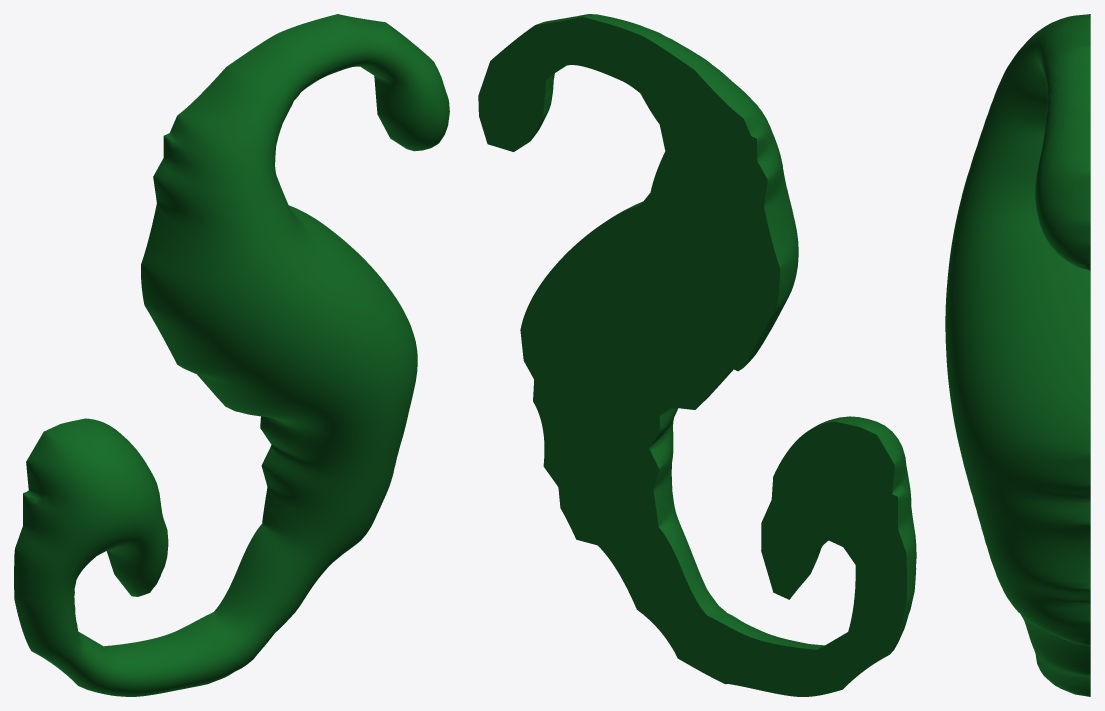
3 renders of one model, left to right at view 1: azimuth 30°, elevation 25°; view 2: azimuth 150°, elevation 25°; view 3: azimuth 270°, elevation 25°, orthographic. The views are drawn at different scales.
Parts seen in each view (by area): view 1: AdobeIllustratorMesh1.001; view 2: AdobeIllustratorMesh1.001; view 3: AdobeIllustratorMesh1.001.
Part boxes in pixels (x1,y1,x2,y2): AdobeIllustratorMesh1.001: (14, 14, 449, 696); AdobeIllustratorMesh1.001: (478, 14, 916, 696); AdobeIllustratorMesh1.001: (945, 14, 1090, 696).
Bounding box in the file's own units: 66.11 × 93.27 × 17.06.
